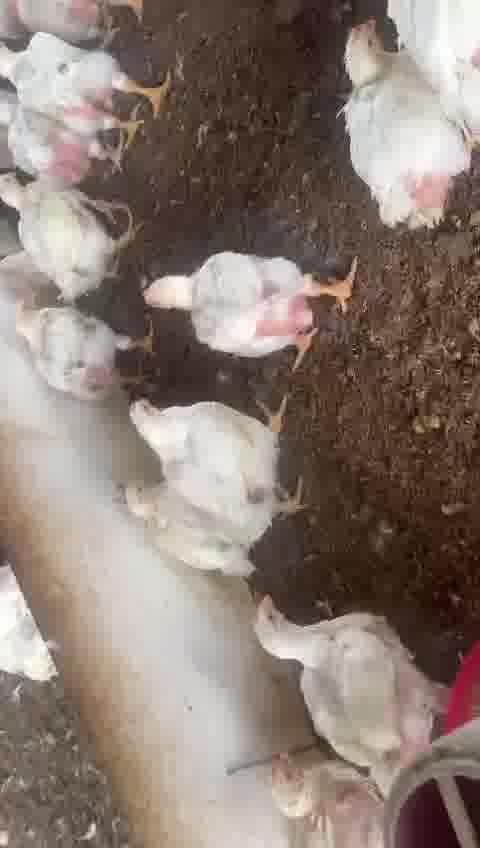AbNormal: (233, 728, 381, 848), (111, 474, 253, 582)
Normal: (246, 586, 434, 758), (334, 16, 465, 231), (138, 248, 368, 367), (129, 390, 304, 515), (3, 29, 184, 129), (0, 164, 130, 294), (1, 282, 149, 389), (1, 94, 144, 191)
